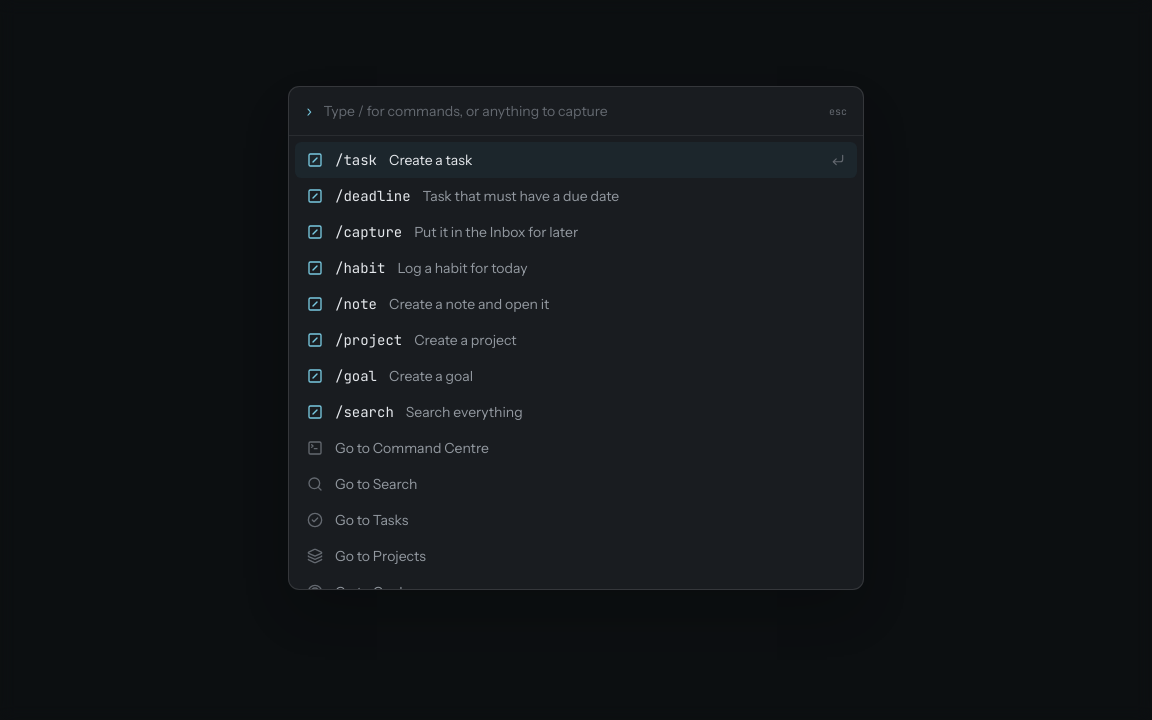
it: CommandPalette › asks before creating a possible duplicate
Type "/task Write report" into the dropdown labelled "command" at (571, 111), box [323, 87, 819, 135]
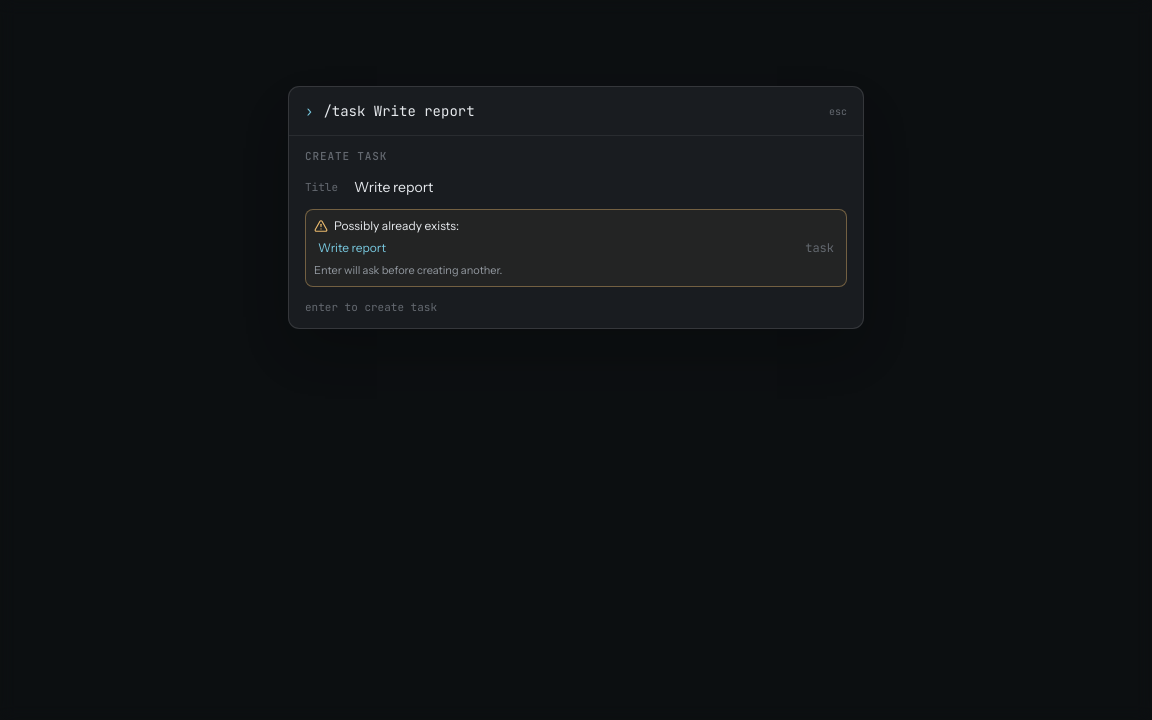
Press Enter
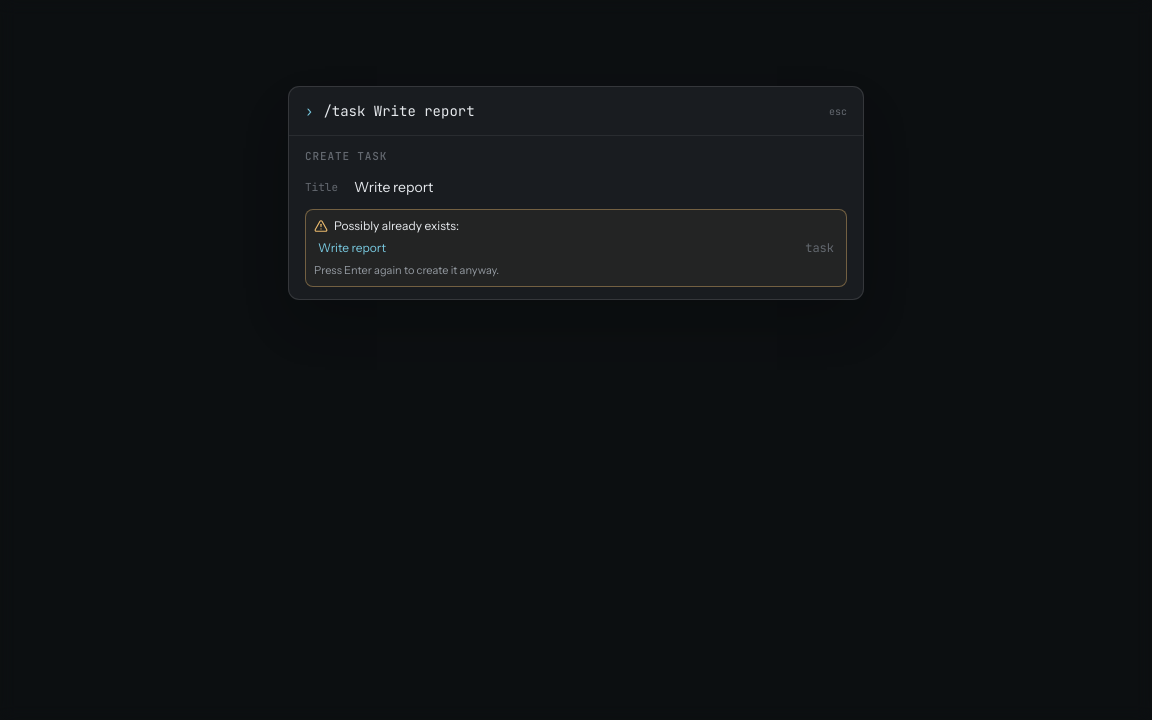
Expected: the text "Press Enter again to create it anyway." is shown, [314, 263, 499, 277]
Press Enter
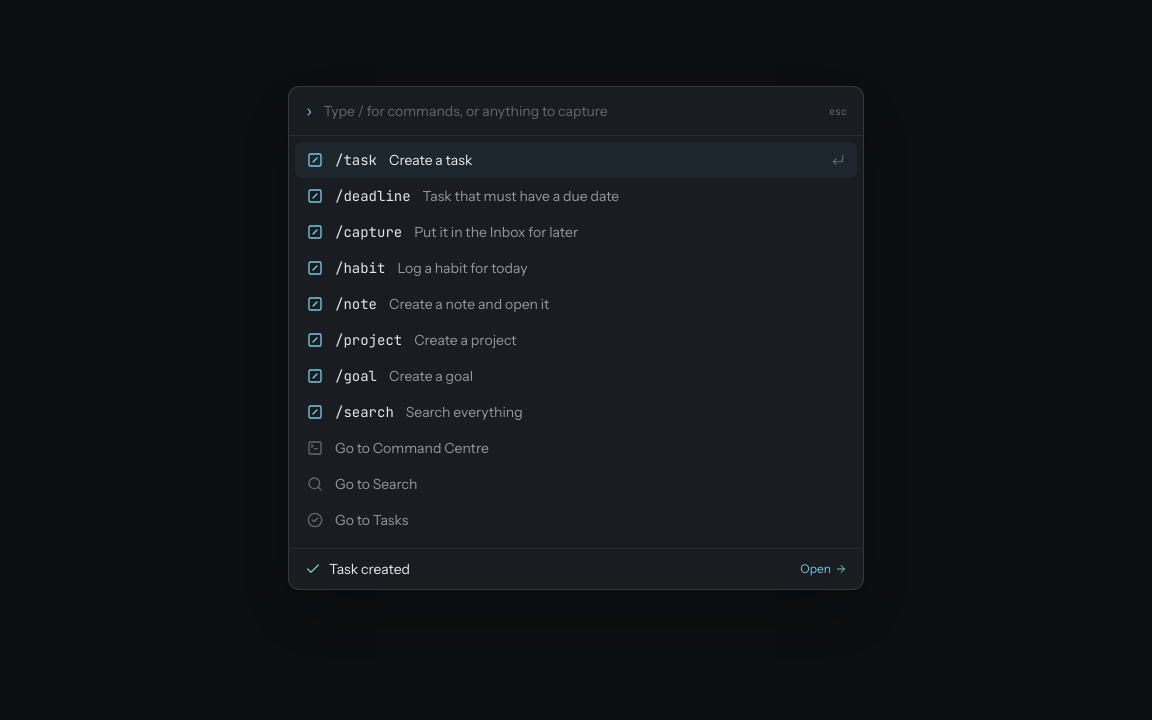
Expected: the text "Task created" is shown, [329, 559, 410, 579]
